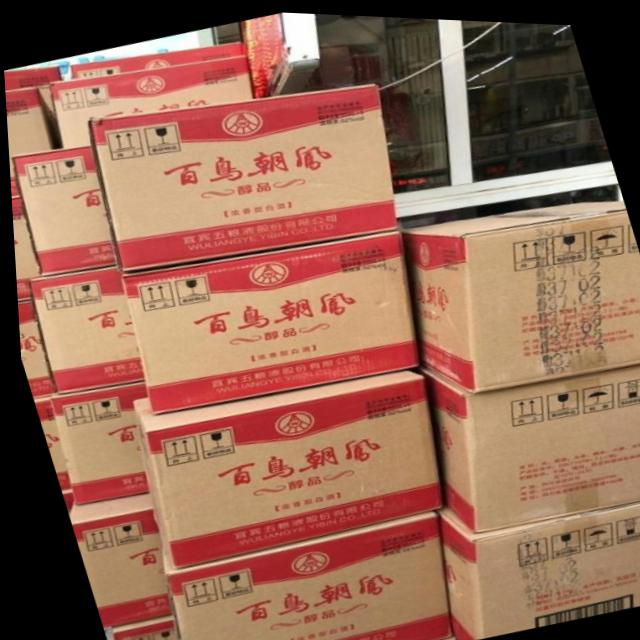box: (128, 364, 435, 568), (87, 79, 396, 272), (119, 224, 415, 412), (397, 194, 640, 389), (402, 357, 640, 529), (152, 506, 445, 640), (431, 495, 640, 639), (48, 52, 252, 147), (25, 264, 141, 393), (8, 144, 115, 276), (64, 490, 163, 627), (43, 379, 144, 504), (70, 39, 246, 79), (4, 86, 64, 199), (14, 298, 52, 397), (30, 398, 66, 490), (9, 197, 37, 301), (103, 612, 172, 640), (3, 65, 61, 89)
